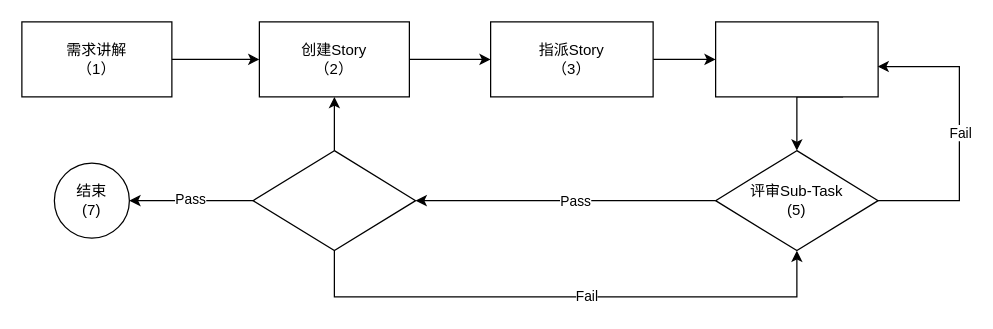
This 993x329 diagram has some shape labels left out. The centre of each missing label's shape, as x and y in pixels:
"创建Sub-Task 评估工作量 （4）" belongs at point 796,59.
"复审Sub-Task (6)" belongs at point 334,200.
